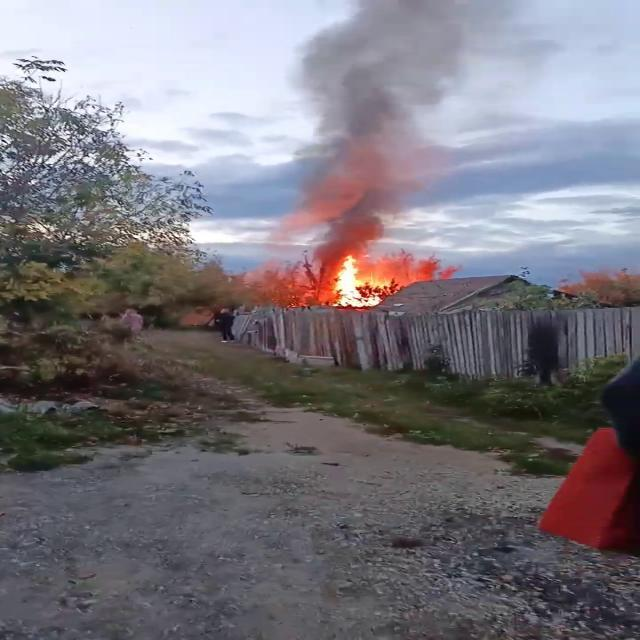Fire: (319, 252, 405, 308)
Smoke: (285, 0, 485, 246)
